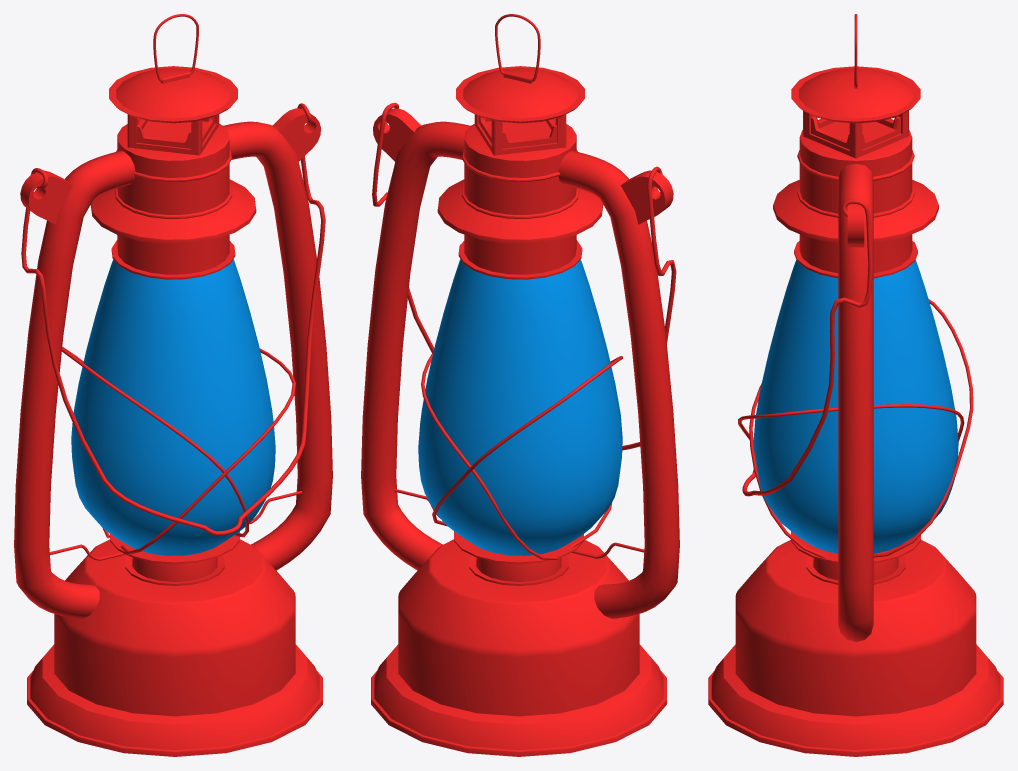
The model's file is Realistic lamp.fbx.
The picture shows the model from 3 angles, left to right: view 1: azimuth 30°, elevation 25°; view 2: azimuth 150°, elevation 25°; view 3: azimuth 270°, elevation 25°; orthographic projection.
Visible parts, largest first — view 1: Cylinder003, Line004, Line006, Line005, Lamp top, Cylinder006, Line007, Box001, Cylinder008, Cylinder009, Cylinder004, Line011 (+1 smaller); view 2: Cylinder003, Line004, Line006, Line005, Lamp top, Cylinder006, Box001, Line007, Cylinder008, Cylinder009, Line011, Cylinder004 (+1 smaller); view 3: Cylinder003, Line004, Line005, Lamp top, Cylinder006, Box001, Line007, Line010, Line011, Cylinder004, Cylinder009.
Boxes of the visible parts, x1,y1,x2,y2 form: Cylinder003: (27,539,322,756); Line004: (71,259,275,555); Line006: (14,150,135,618); Line005: (223,121,332,570); Lamp top: (90,118,256,279); Cylinder006: (109,66,237,123); Line007: (21,103,325,535); Box001: (127,114,219,155); Cylinder008: (20,170,72,224); Cylinder009: (272,108,320,161); Cylinder004: (110,531,239,563); Line011: (102,348,295,554); Cylinder003: (371,539,666,756); Line004: (418,259,622,555); Line006: (558,150,679,618); Line005: (361,121,470,570); Lamp top: (437,118,603,279); Cylinder006: (456,66,584,123); Box001: (474,114,566,155); Line007: (372,102,676,450); Cylinder008: (621,170,673,224); Cylinder009: (373,108,421,161); Line011: (421,351,612,560); Cylinder004: (454,531,583,563); Cylinder003: (708,540,1003,756); Line004: (753,260,958,553); Line005: (838,164,873,641); Lamp top: (773,118,938,278); Cylinder006: (791,66,920,123); Box001: (803,111,908,158); Line007: (742,199,872,496); Line010: (749,299,973,558); Line011: (738,404,964,441); Cylinder004: (791,531,920,562); Cylinder009: (847,201,864,247).
Size of what is drawn, in the model's own units: 61.41 by 127 by 50.12.
